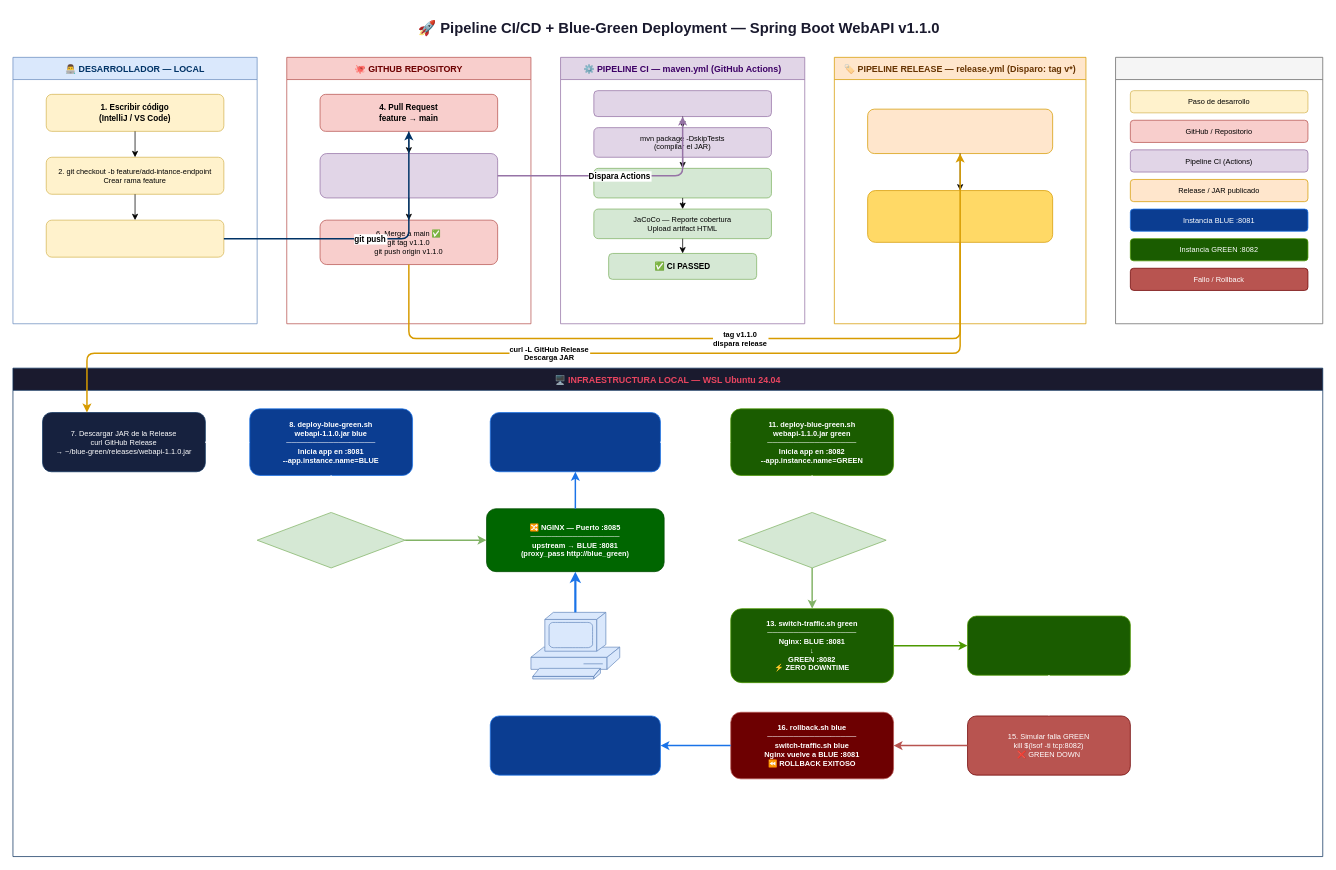
The diagram is 1336 pixels wide and 870 high, and some of its shapes have lost their labels. The shapes that lost their labels are listed below. From the top down, each one's box as (x1, y1, x2, y2) in pixels, then its label:
(593, 90, 771, 117): Setup JDK 21
(867, 108, 1053, 154): Compilar + empaquetar JAR webapi-1.1.0.jar (18 MB)
(319, 153, 498, 198): 5. GitHub Actions dispara 🔁 maven.yml (CI Pipeline) en cada push / PR
(593, 168, 771, 198): mvn test (JUnit 5 — 10 tests)
(1115, 57, 1323, 324): LEYENDA
(867, 190, 1053, 242): Publicar GitHub Release v1.1.0 📎 JAR adjunto para descarga
(46, 219, 224, 257): 3. git commit + git push origin feature/add-intance-endpoint
(490, 412, 660, 472): 10. traffic-test.sh 10 BLUE 100% | GREEN 0% ✅ Todo va a BLUE
(256, 512, 405, 568): 9. health-check.sh ✅ BLUE :8081 HEALTHY
(737, 512, 886, 568): 12. health-check.sh ✅ GREEN :8082 HEALTHY
(530, 612, 620, 679): 👤 USUARIO FINAL localhost:8085 (siempre disponible)
(967, 615, 1130, 675): 14. traffic-test.sh 10 BLUE 0% | GREEN 100% ✅ Todo va a GREEN
(490, 715, 660, 775): 17. traffic-test.sh 10 BLUE 100% | GREEN 0% ✅ Sistema estable
